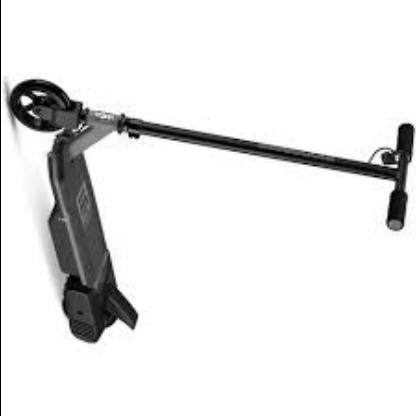bike: (9, 77, 415, 348)
traffic light: (46, 130, 139, 343), (62, 275, 138, 344)
